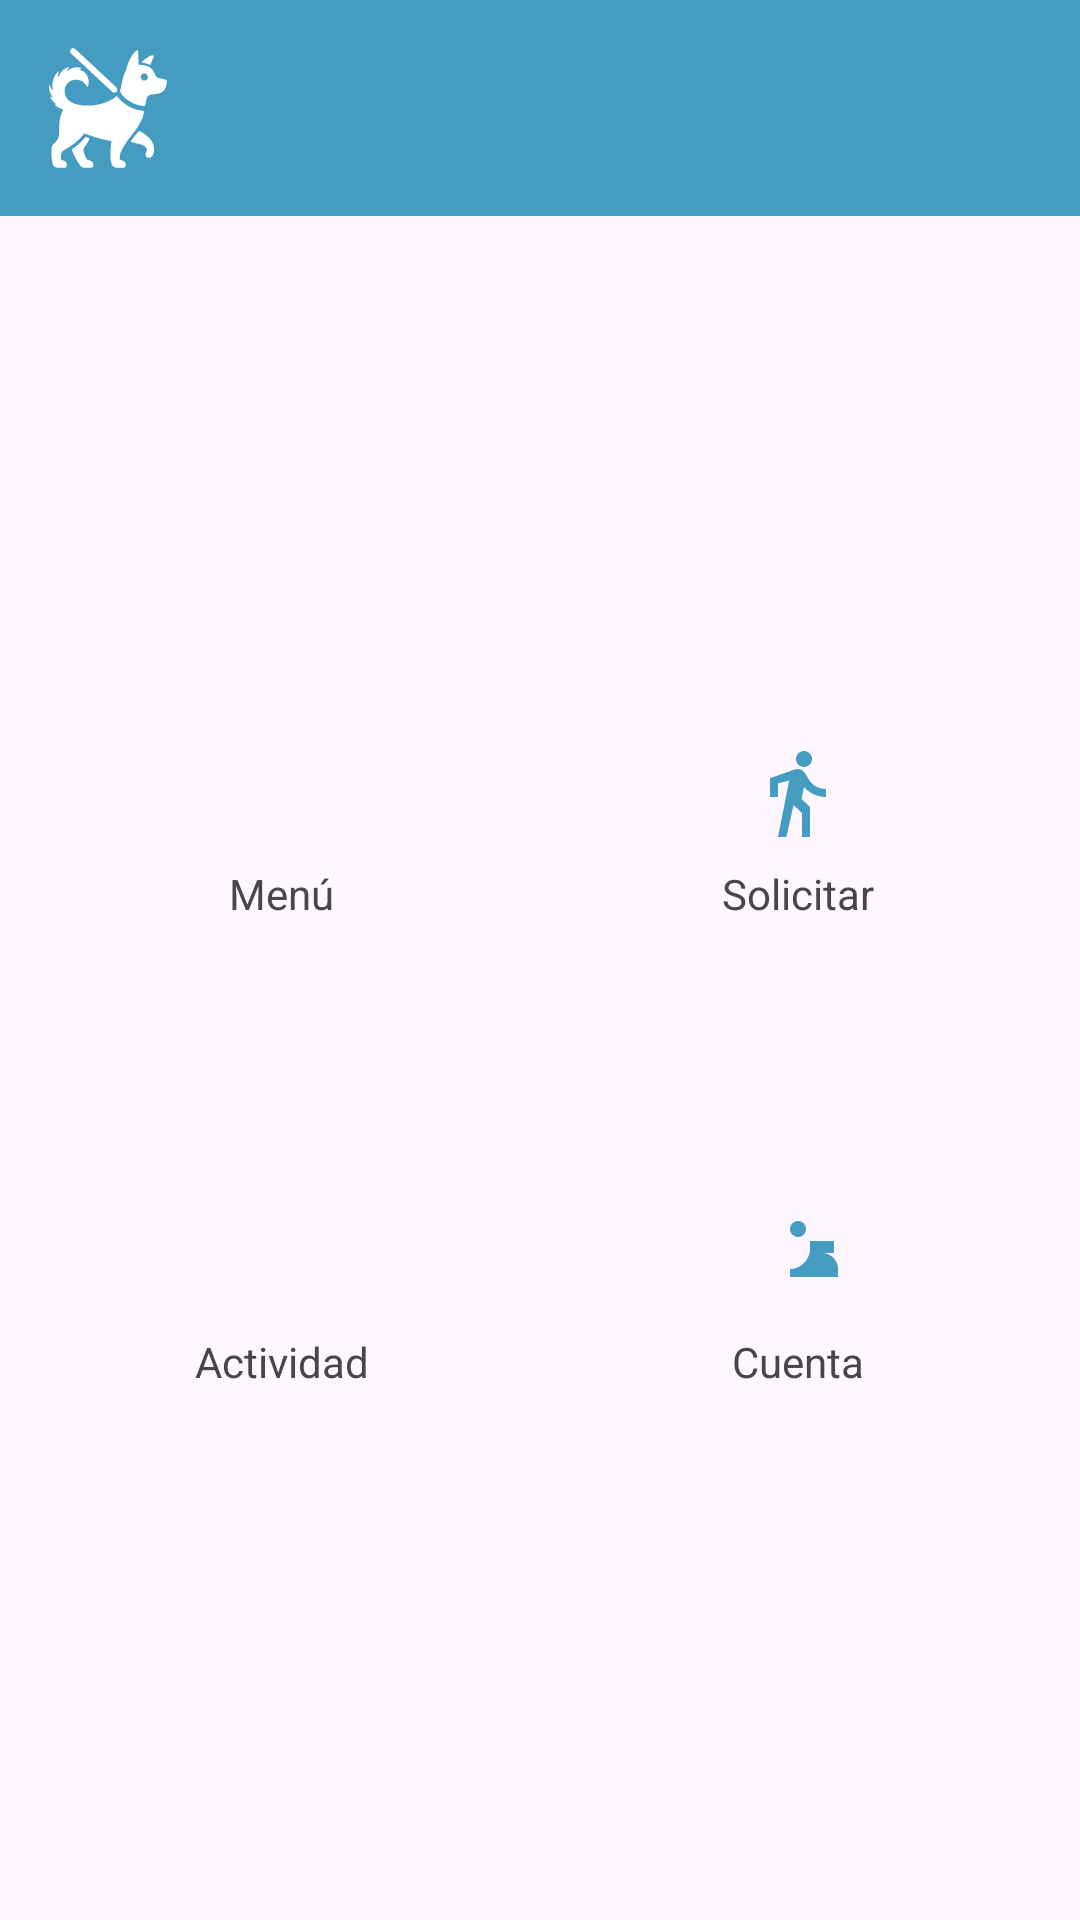

Icon bounding boxes for this 1080w x 1920h phone screenshot, format (x1=x1, y1=y1, x2=x2, y2=y2):
walk: (x1=770, y1=751, x2=826, y2=837)
